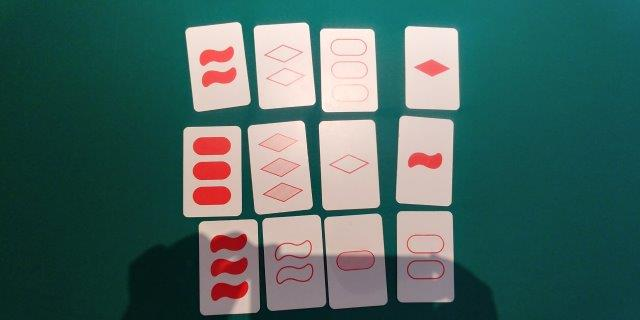1ED: (324, 123, 372, 204)
1FD: (407, 30, 456, 104)
1FW: (401, 121, 449, 202)
1HP: (332, 219, 379, 303)
2ED: (261, 27, 308, 102)
2EP: (400, 214, 449, 298)
2EW: (268, 219, 319, 304)
2FW: (195, 28, 239, 104)
3EP: (325, 29, 371, 106)
3FP: (186, 129, 237, 213)
3FW: (203, 225, 253, 311)
3HD: (257, 127, 304, 210)
